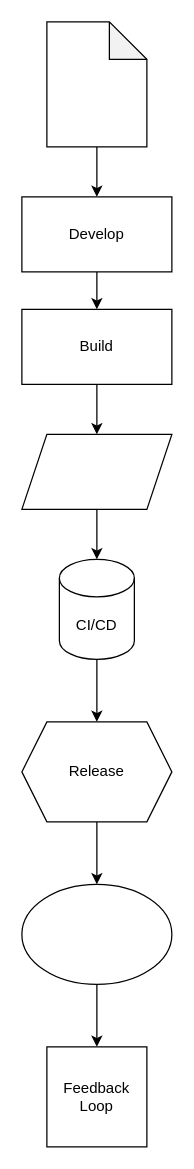
Image size: 194x1169. Some labels were removed from this diagram. The shapes that lost their labels are listed below. From the top down, each one's box as (x1, y1, x2, y2) in pixels, then its label:
(46, 21, 147, 147): Plan
(21, 433, 172, 509): Test
(21, 883, 172, 984): Monitor
